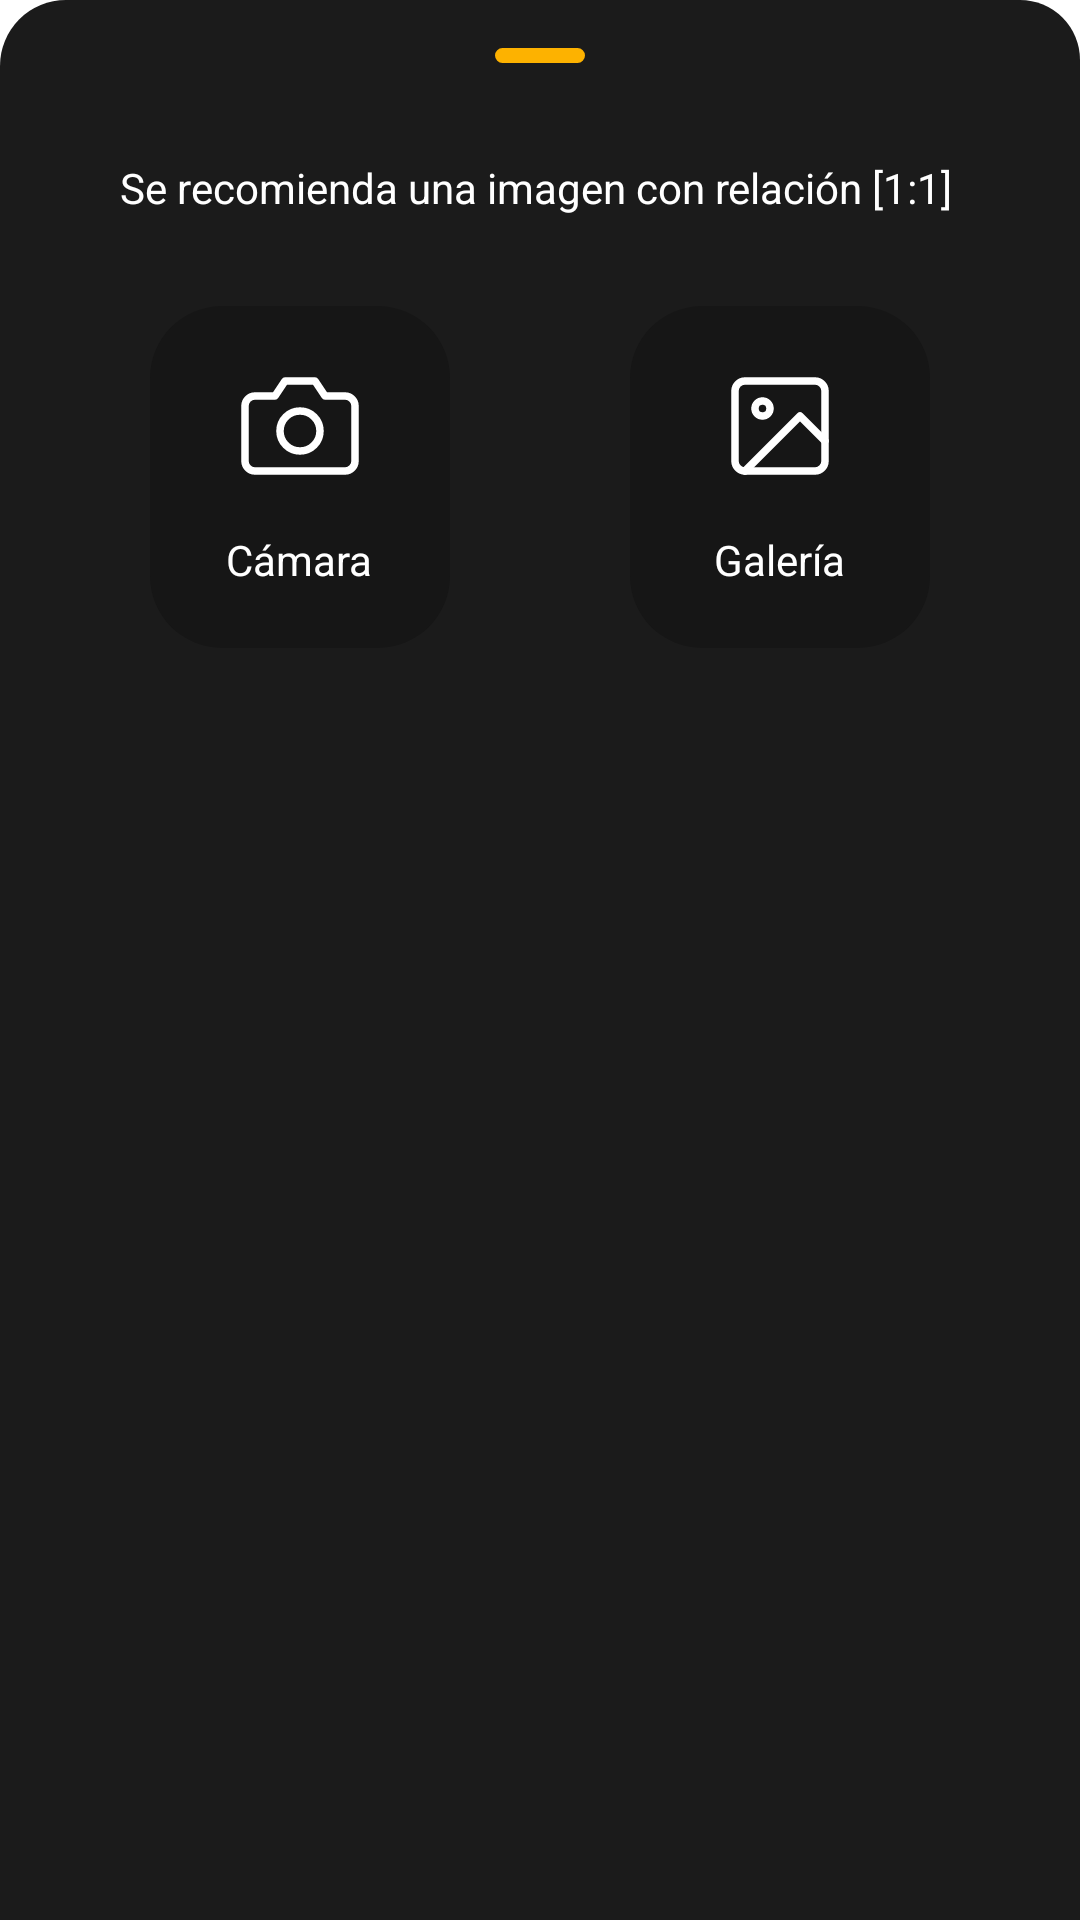

Screen size 1080px x 1920px. Icon name, then its box in pixels as (left=x1, top=y1, right=x2, bottom=y2):
camera: (left=241, top=377, right=359, bottom=475)
